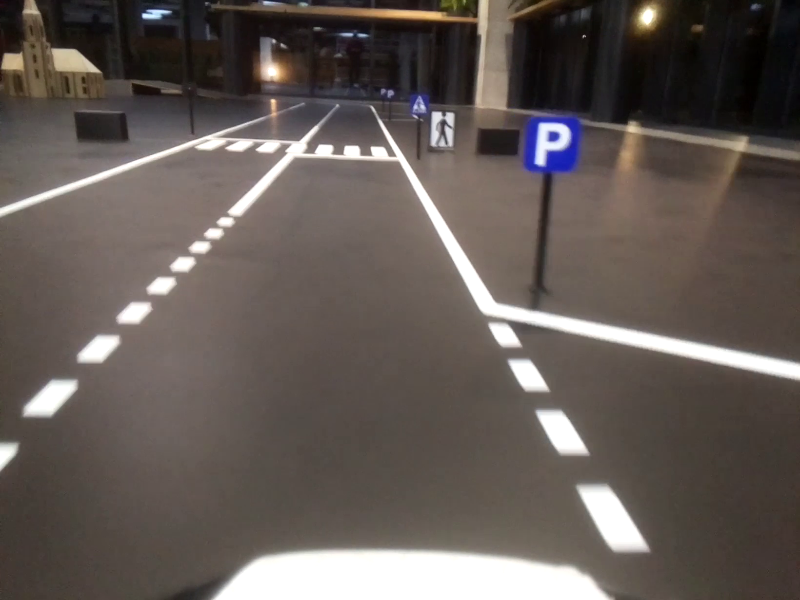park: (519, 113, 579, 173)
